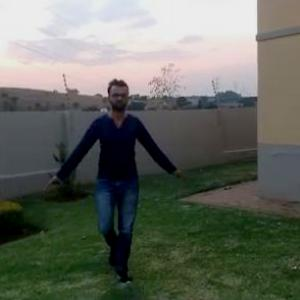land: (43, 68, 184, 286)
